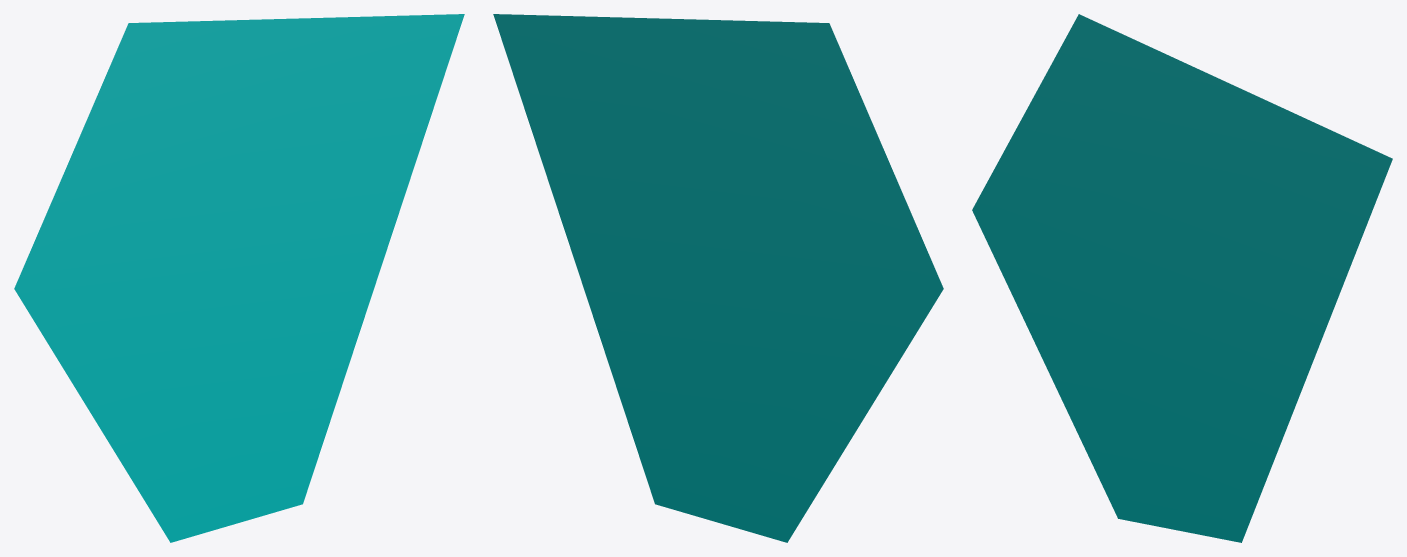
The model's file is uddmcgbia_VarC_LOD3.fbx.
3 views of the same model, side by side, from view 1: azimuth 30°, elevation 25°; view 2: azimuth 150°, elevation 25°; view 3: azimuth 330°, elevation 25° (orthographic). The views are drawn at different scales.
Parts seen in each view (by area): view 1: _c041_VarC_LOD4; view 2: _c041_VarC_LOD4; view 3: _c041_VarC_LOD4.
Boxes of the visible parts, left/top/right/bottom form: _c041_VarC_LOD4: left=14, top=14, right=464, bottom=542; _c041_VarC_LOD4: left=493, top=14, right=943, bottom=542; _c041_VarC_LOD4: left=972, top=14, right=1392, bottom=542.
Size of the model in its own units: 11.48 by 12.91 by 0.
